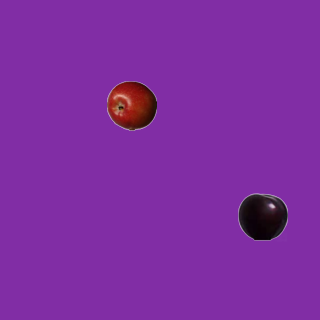Apple Braeburn: (106, 80, 156, 130)
Cherry Wax Black: (237, 191, 287, 241)
